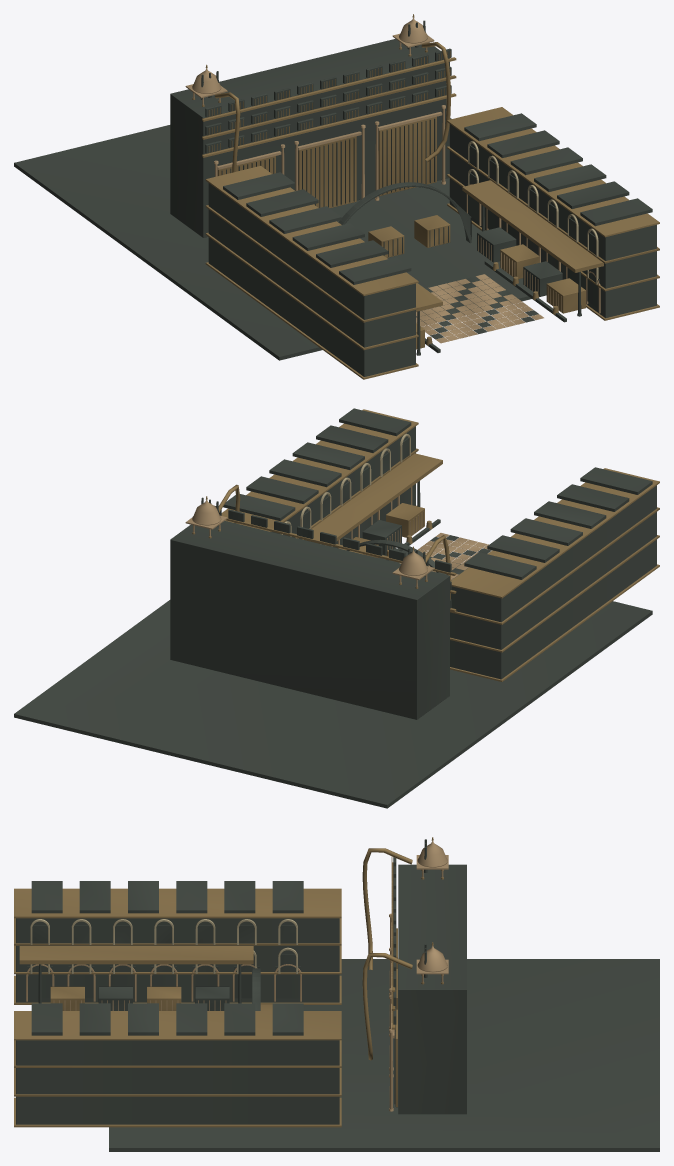
Rendered from arena-60.glb.
3 views of the same model, one above another, from view 1: azimuth 30°, elevation 25°; view 2: azimuth 150°, elevation 25°; view 3: azimuth 270°, elevation 25° (orthographic). The views are drawn at different scales.
Visible parts, largest first — view 1: correction-dark, correction-bronze, correction-sand, correction-plaster; view 2: correction-dark, correction-bronze, correction-sand, correction-plaster; view 3: correction-dark, correction-bronze, correction-sand, correction-plaster.
Boxes of the visible parts, x1=… form: correction-dark: x1=14, y1=20, x2=656, y2=376; correction-bronze: x1=192, y1=14, x2=659, y2=379; correction-sand: x1=185, y1=17, x2=600, y2=343; correction-plaster: x1=468, y1=141, x2=598, y2=284; correction-dark: x1=14, y1=408, x2=656, y2=808; correction-bronze: x1=192, y1=409, x2=659, y2=681; correction-sand: x1=185, y1=486, x2=491, y2=587; correction-plaster: x1=280, y1=433, x2=410, y2=539; correction-dark: x1=16, y1=839, x2=659, y2=1151; correction-bronze: x1=14, y1=837, x2=443, y2=1127; correction-sand: x1=26, y1=840, x2=448, y2=1111; correction-plaster: x1=30, y1=919, x2=297, y2=973.
Size of the model in its own units: 65 by 27.06 by 93.8.
